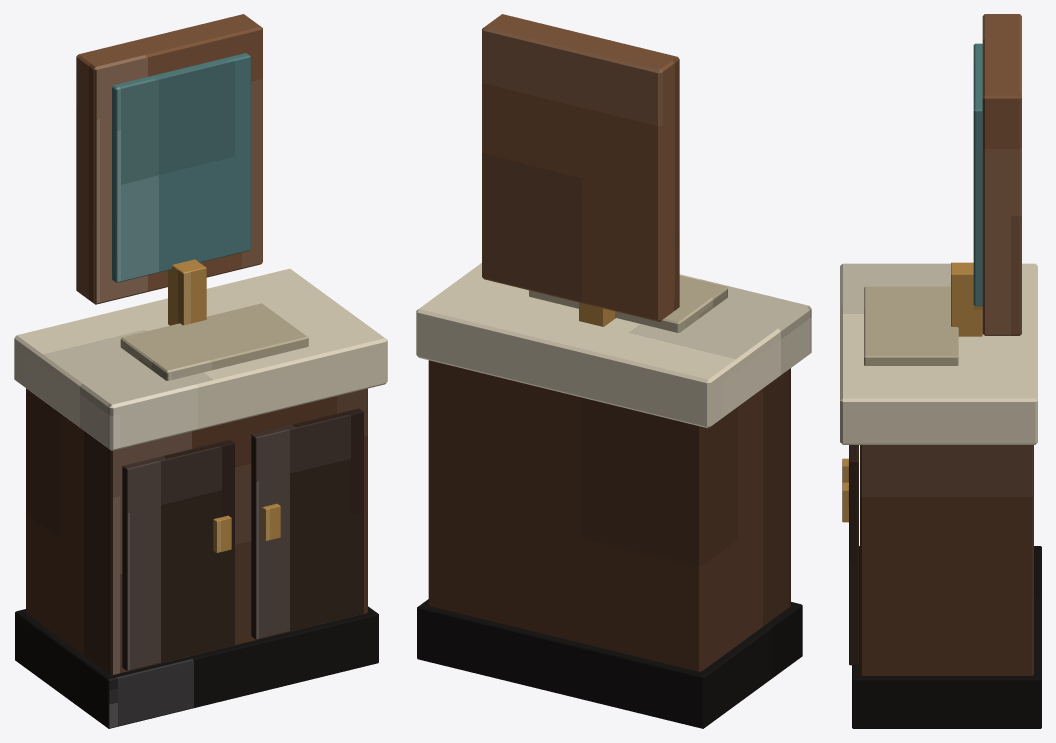
File: bathroom_vanity.glb
3 renders of one model, left to right at view 1: azimuth 30°, elevation 25°; view 2: azimuth 150°, elevation 25°; view 3: azimuth 270°, elevation 25°, orthographic. The views are drawn at different scales.
Parts seen in each view (by area): view 1: VanityTop, VanityBody, VanityMirrorGlass, VanityDoor_1, VanityDoor_2, VanityPlinth, VanityMirrorFrame, VanityBasin, VanityFaucet, VanityHandle_1, VanityHandle_2; view 2: VanityBody, VanityMirrorFrame, VanityTop, VanityPlinth, VanityBasin, VanityFaucet; view 3: VanityBody, VanityTop, VanityMirrorFrame, VanityPlinth, VanityBasin, VanityMirrorGlass, VanityDoor_2, VanityFaucet.
Boxes of the visible parts, x1,y1,x2,y2 form: VanityTop: (14,268,387,450); VanityBody: (26,388,367,674); VanityMirrorGlass: (112,53,250,282); VanityDoor_1: (122,440,234,670); VanityDoor_2: (251,408,363,639); VanityPlinth: (15,606,378,728); VanityMirrorFrame: (76,14,262,304); VanityBasin: (120,303,308,380); VanityFaucet: (168,259,206,325); VanityHandle_1: (213,515,231,552); VanityHandle_2: (262,503,280,540); VanityBody: (428,360,790,671); VanityMirrorFrame: (482,14,679,321); VanityTop: (416,263,811,428); VanityPlinth: (417,599,802,728); VanityBasin: (529,275,727,332); VanityFaucet: (579,302,616,326); VanityBody: (860,445,1033,675); VanityTop: (840,263,1037,444); VanityMirrorFrame: (982,14,1021,335); VanityPlinth: (852,546,1041,728); VanityBasin: (864,286,958,365); VanityMirrorGlass: (973,43,982,306); VanityDoor_2: (849,445,858,665); VanityFaucet: (951,262,982,336).
Bounding box in the file's own units: 0.82 × 1.7 × 0.51.
1 material, 1 textured.
